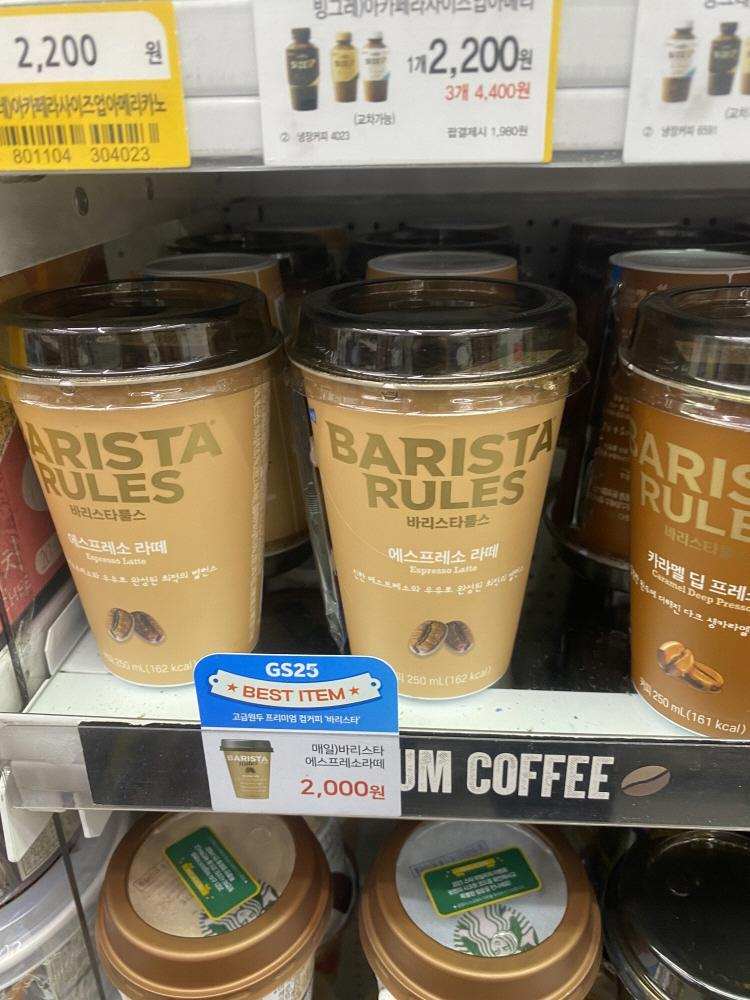baristarules_espressolatte: (286, 278, 553, 723), (0, 275, 266, 690)
